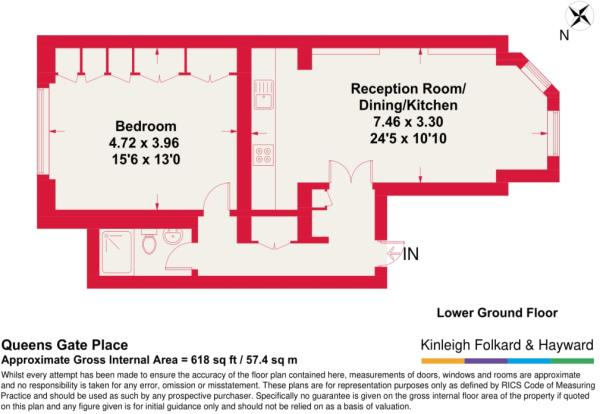GrossArea: (1, 351, 301, 367)
